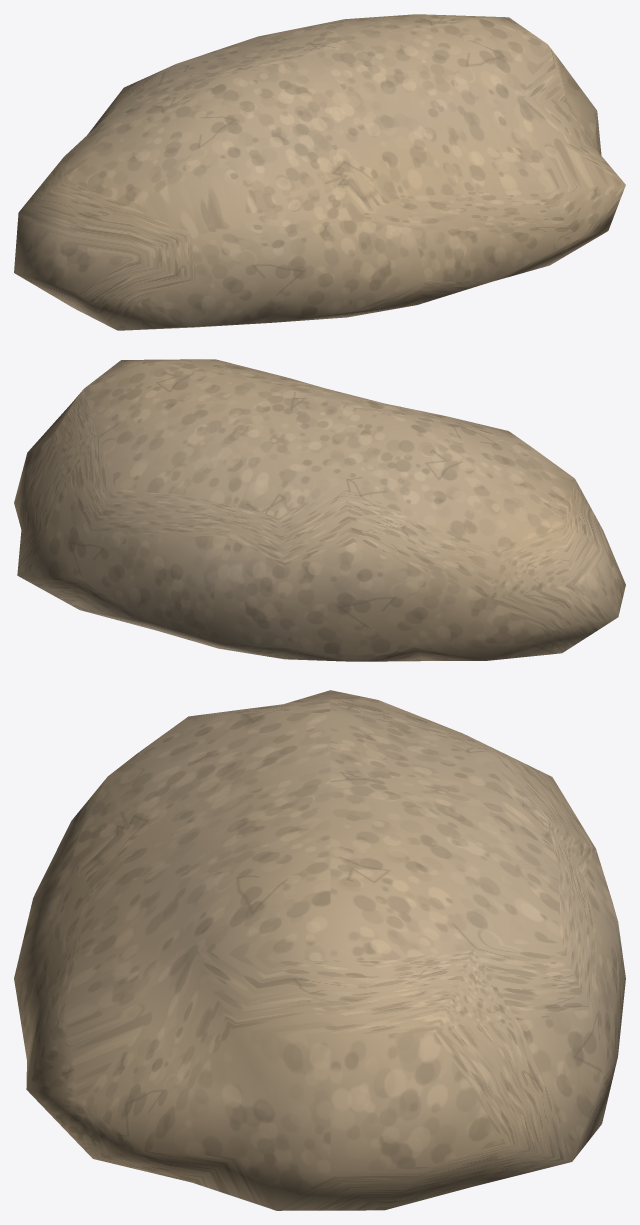
File: rock_sandstone.glb
3 views of the same model, one above another, from view 1: azimuth 30°, elevation 25°; view 2: azimuth 150°, elevation 25°; view 3: azimuth 270°, elevation 25° (orthographic). The views are drawn at different scales.
Parts seen in each view (by area): view 1: rock_sandstone_stone; view 2: rock_sandstone_stone; view 3: rock_sandstone_stone.
Part boxes in pixels (left/top/right/bottom): rock_sandstone_stone: left=14, top=14, right=625, bottom=330; rock_sandstone_stone: left=14, top=359, right=625, bottom=661; rock_sandstone_stone: left=14, top=690, right=625, bottom=1210.
Bounding box in the file's own units: 3.24 × 0.9918 × 2.05.
1 material, 1 textured.
